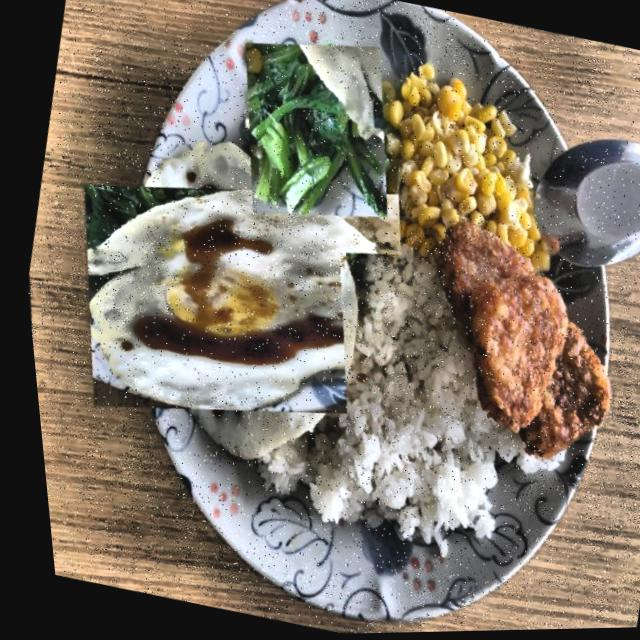Food: (39, 110, 439, 489), (272, 227, 538, 555), (376, 192, 640, 490), (203, 17, 422, 244)
